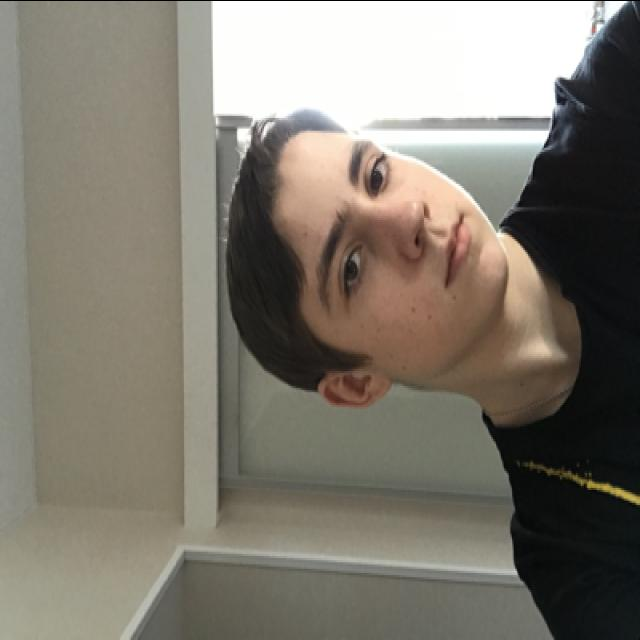no_mask: (308, 130, 511, 338)
